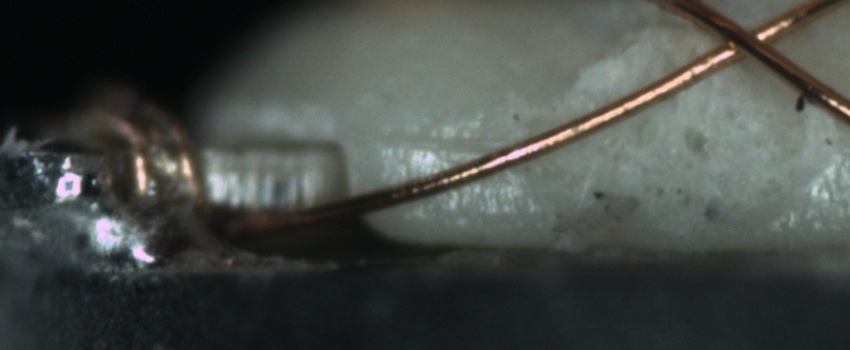CL: (702, 6, 792, 69)
DL: (374, 111, 512, 175)
TE: (76, 86, 209, 209)
